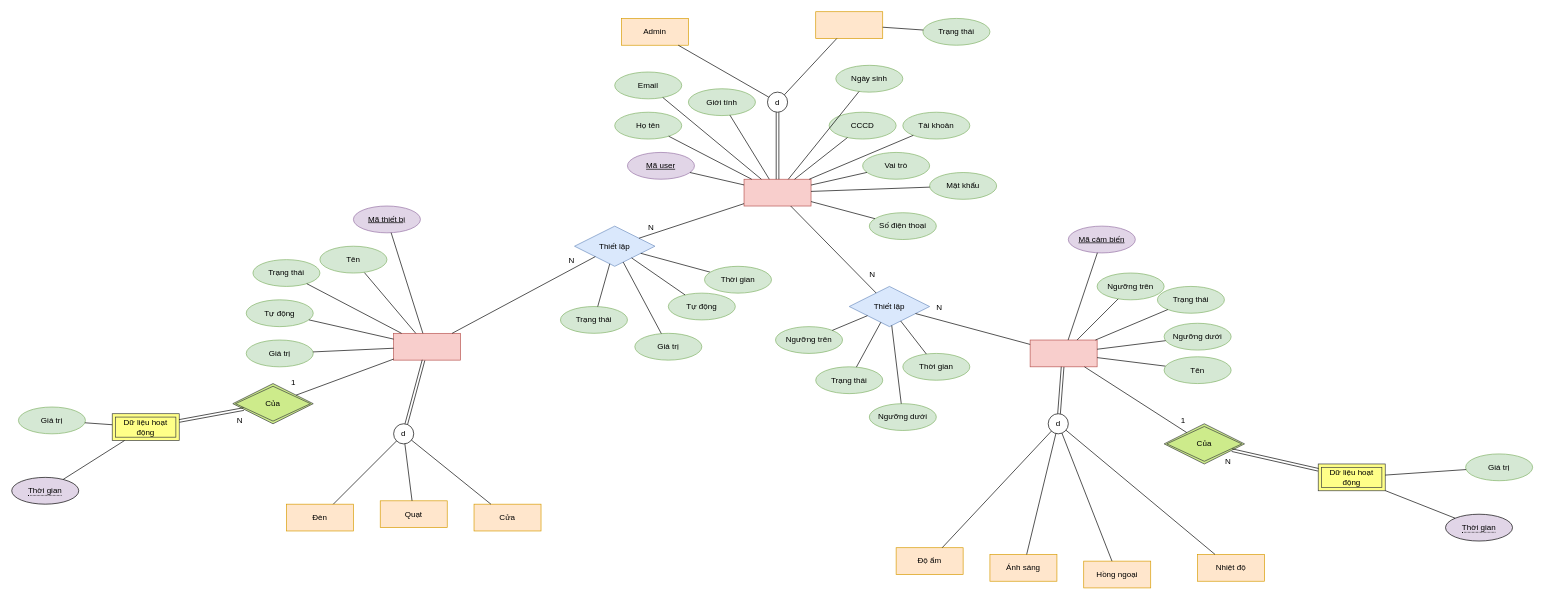
The diagram is 1544 pixels wide and 600 high, and some of its shapes have lost their labels. The shapes that lost their labels are listed below. From the top down, each one's box as (x1, y1, x2, y2) in pixels, then its label:
(815, 11, 883, 39): Thông thường
(743, 179, 811, 206): User
(393, 333, 461, 360): Thiết bị
(1029, 339, 1097, 367): Cảm biến
